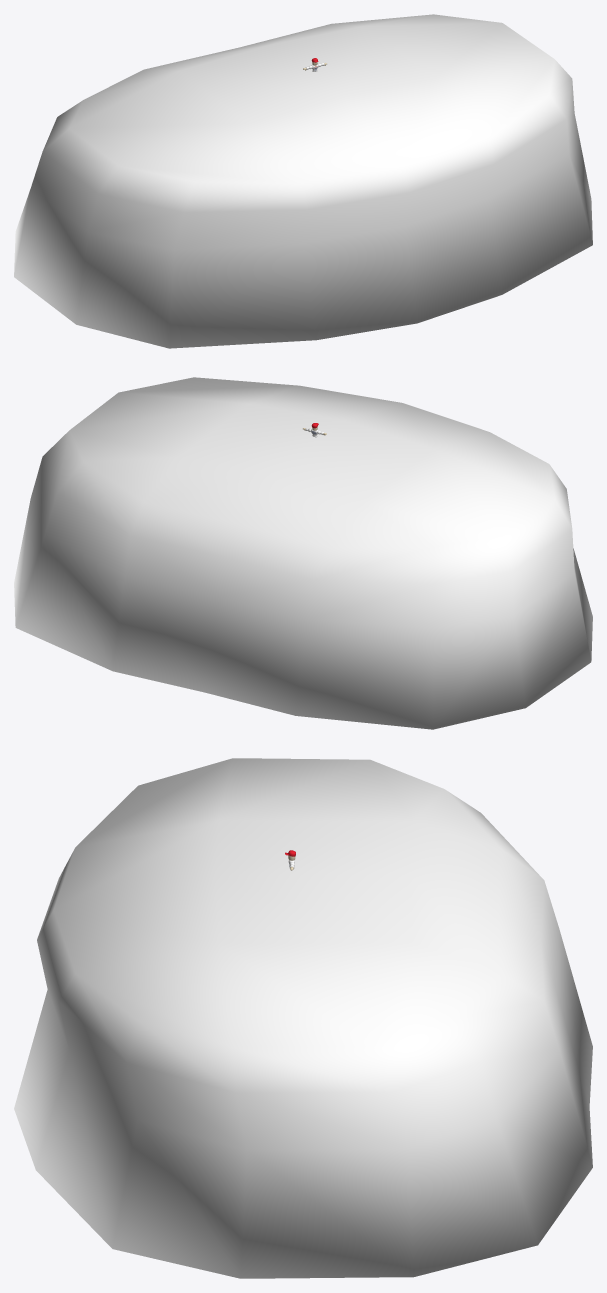
File: roblox_Model_mayaRig.fbx
3 renders of one model, top to bottom at view 1: azimuth 30°, elevation 25°; view 2: azimuth 150°, elevation 25°; view 3: azimuth 270°, elevation 25°, orthographic. The views are drawn at different scales.
Parts seen in each view (by area): view 1: hips; view 2: hips; view 3: hips.
Boxes of the visible parts, x1,y1,x2,y2 form: hips: [14, 14, 592, 348]; hips: [14, 377, 592, 729]; hips: [14, 758, 592, 1278].
Bounding box in the file's own units: 0.00658 × 0.00232 × 0.00472.
6 materials, 2 textured.
